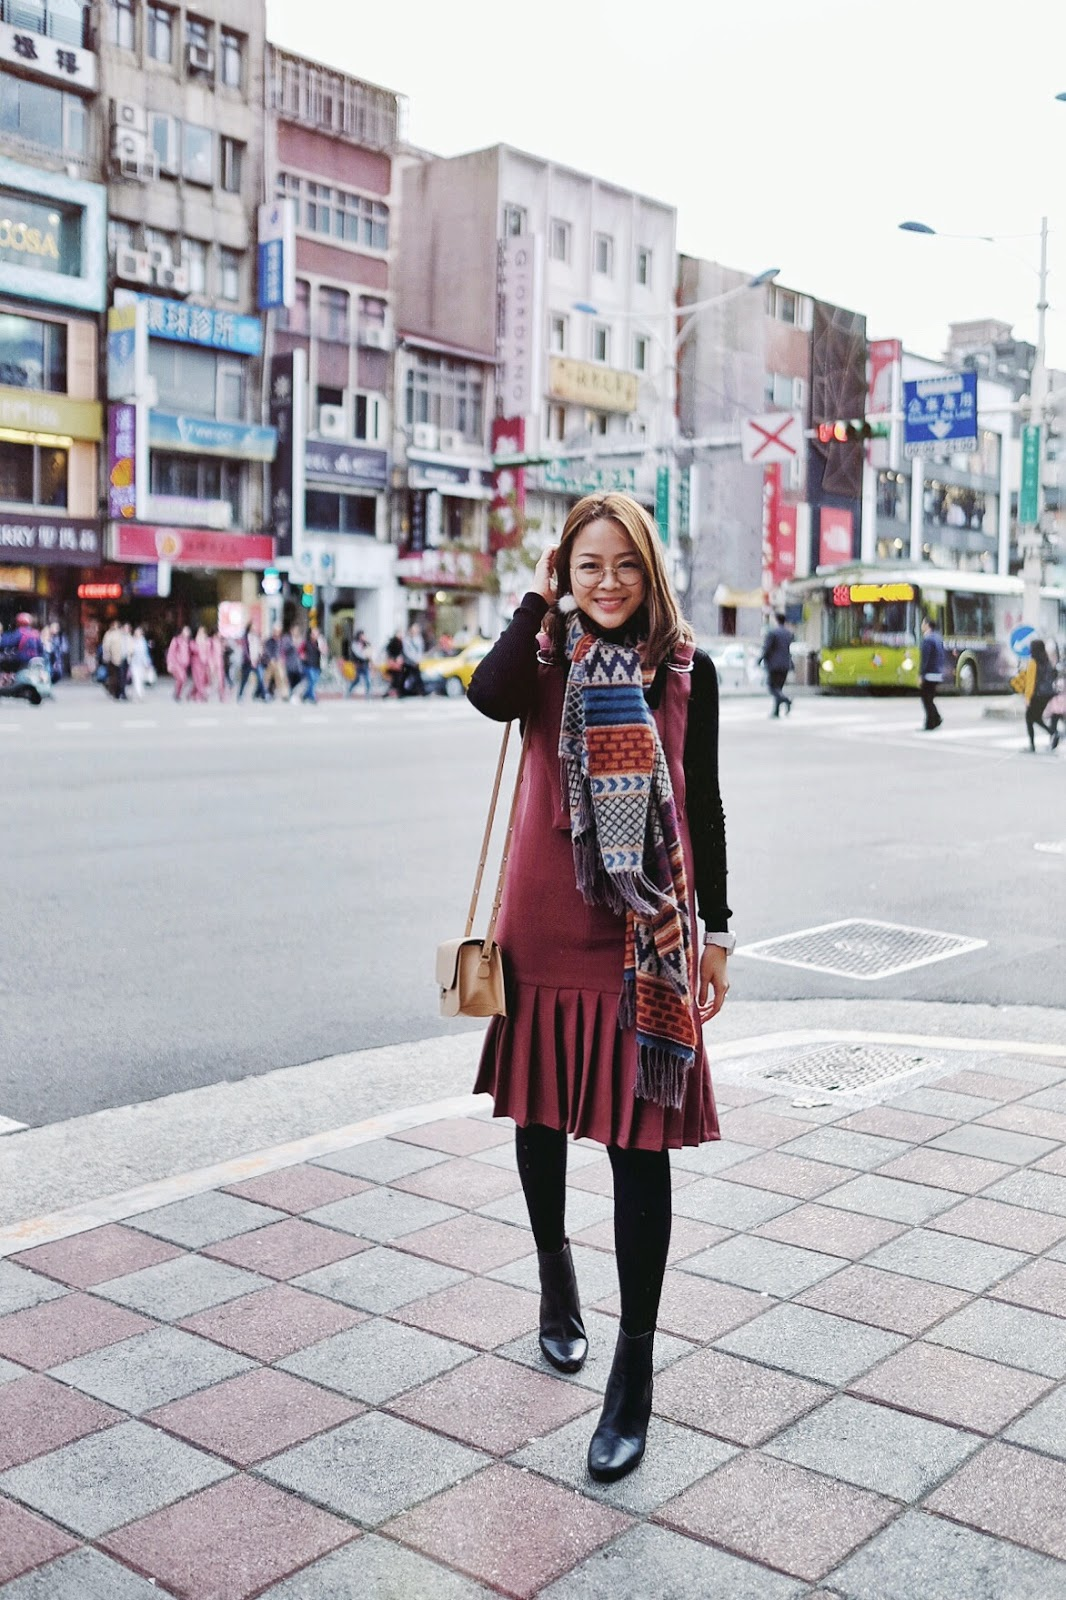person: (440, 481, 744, 1485)
